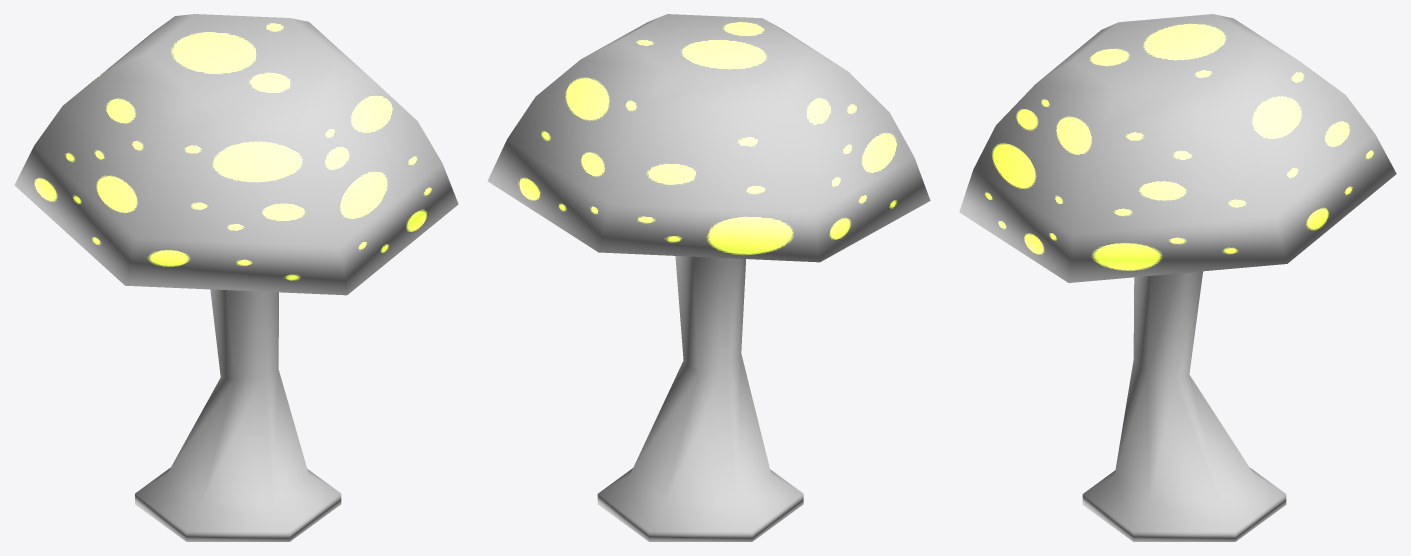
The model's file is HH_MushroomLarge_AT.fbx.
The picture shows the model from 3 angles, left to right: view 1: azimuth 30°, elevation 25°; view 2: azimuth 150°, elevation 25°; view 3: azimuth 270°, elevation 25°; orthographic projection.
Visible parts, largest first — view 1: mushLarge; view 2: mushLarge; view 3: mushLarge.
Boxes of the visible parts, left/top/right/bottom form: mushLarge: left=14, top=14, right=458, bottom=541; mushLarge: left=487, top=14, right=930, bottom=541; mushLarge: left=959, top=14, right=1396, bottom=541.
Size of the model in its own units: 307 by 407 by 353.
